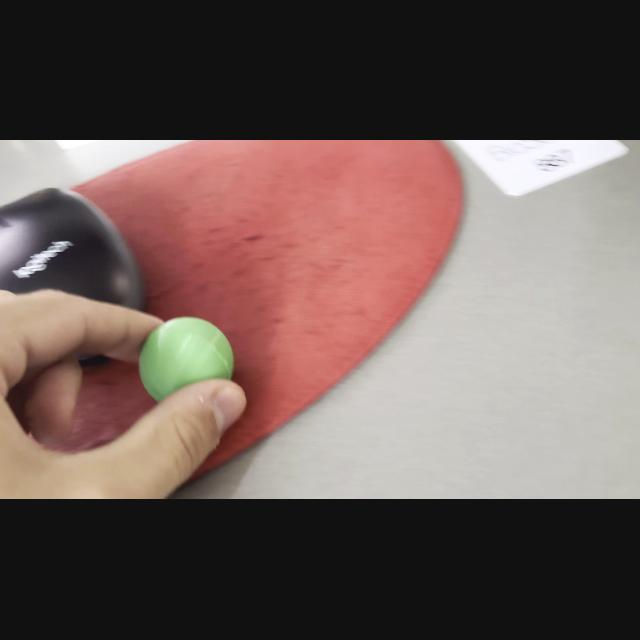objects: (133, 314, 233, 401)
